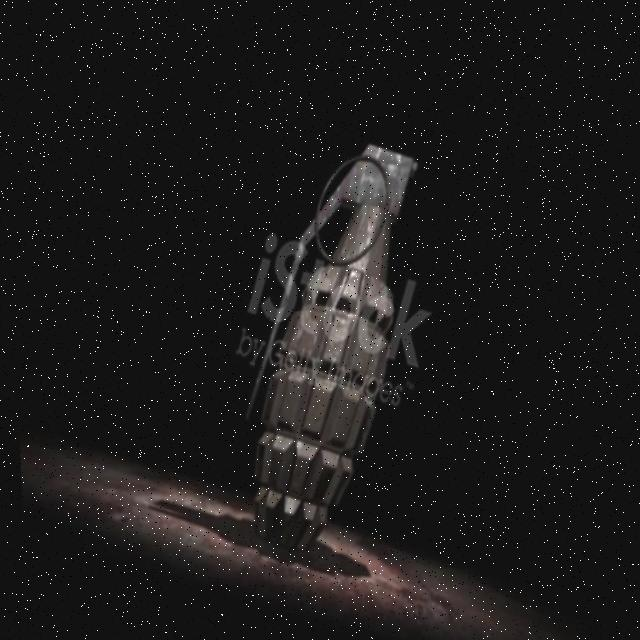grenade: (190, 111, 461, 578)
